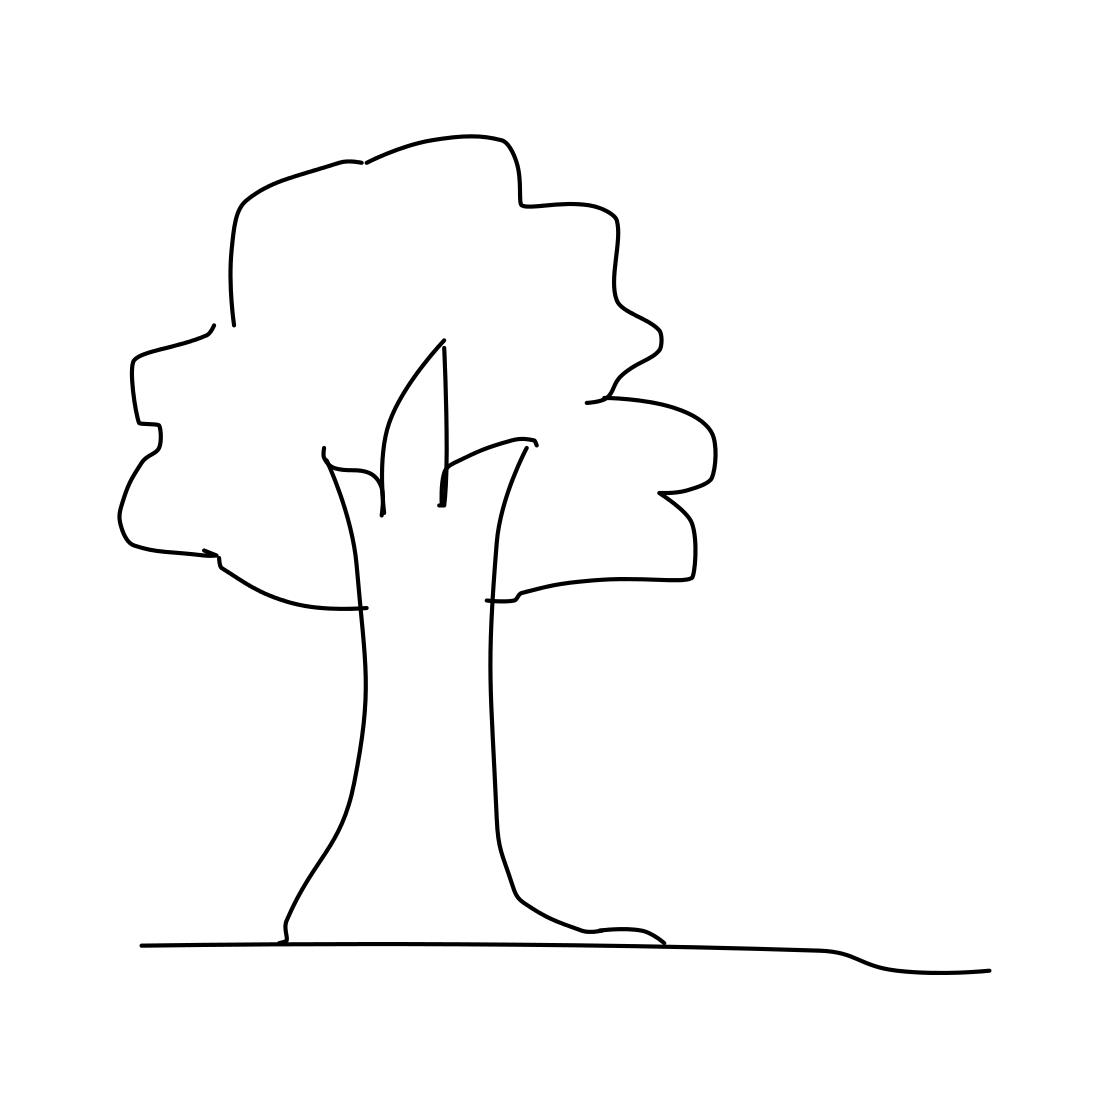Tree: (96, 113, 758, 964)
